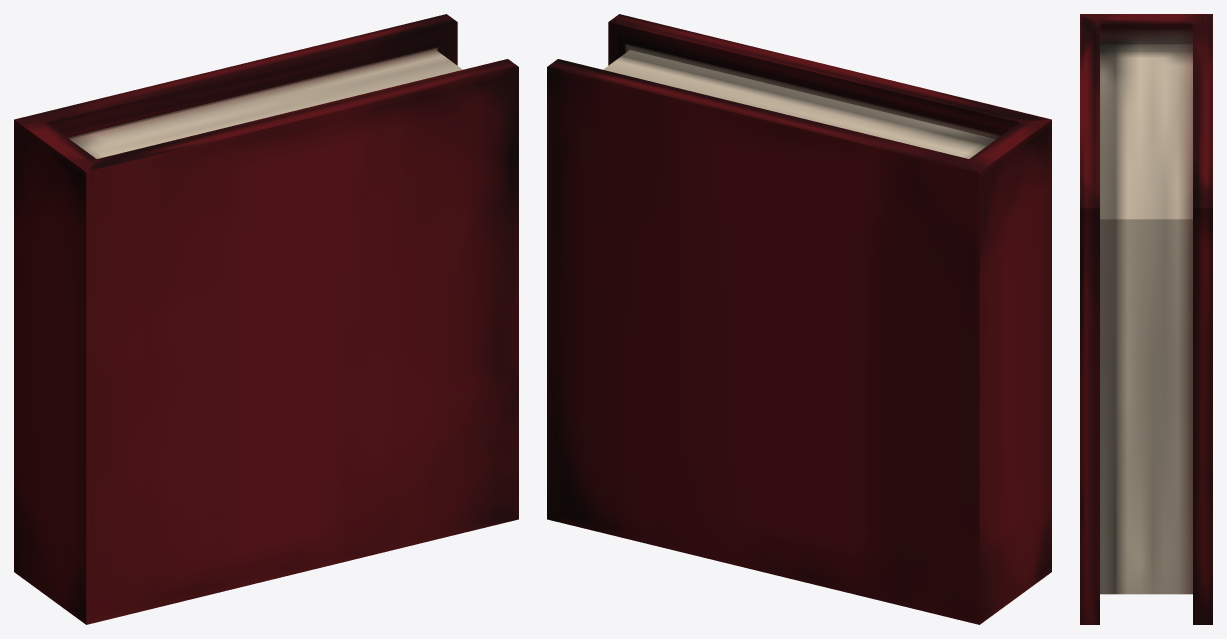
The model's file is Book.fbx.
3 views of the same model, side by side, from view 1: azimuth 30°, elevation 25°; view 2: azimuth 150°, elevation 25°; view 3: azimuth 270°, elevation 25° (orthographic). The views are drawn at different scales.
Visible parts, largest first — view 1: Cube; view 2: Cube; view 3: Cube.
Boxes of the visible parts, x1,y1,x2,y2 form: Cube: (14,14,518,624); Cube: (547,14,1051,624); Cube: (1080,14,1212,624).
Bounding box in the file's own units: 50 × 50 × 14.46.
1 material, 1 textured.
